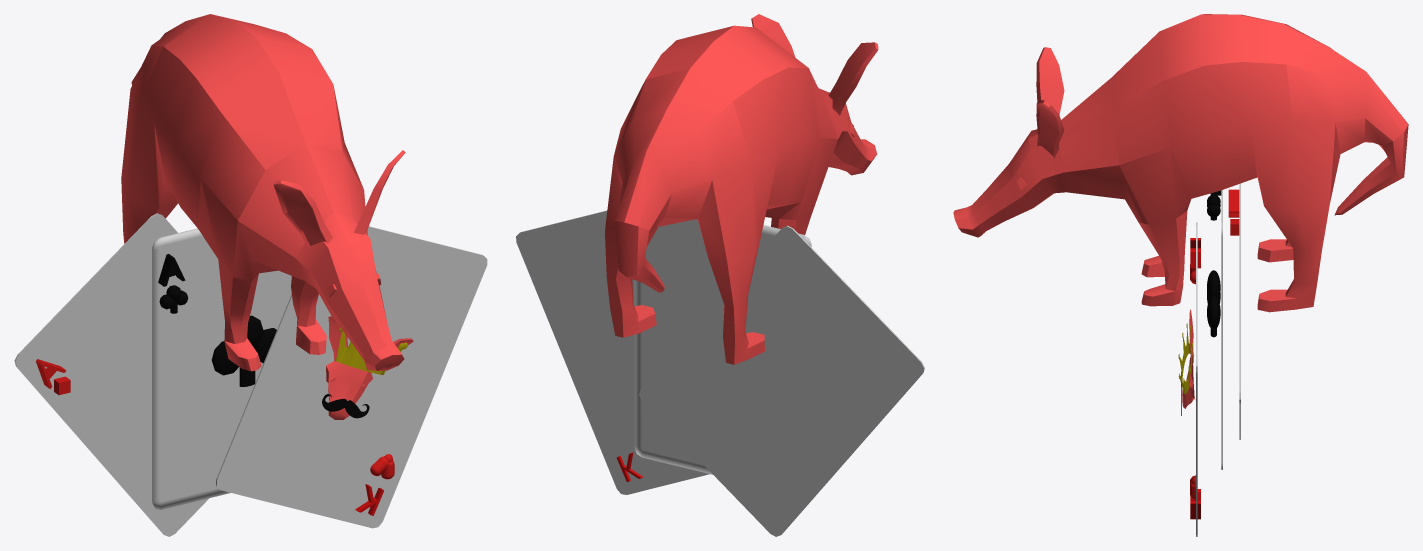
File: caardvark_icon.glb
The picture shows the model from 3 angles, left to right: view 1: azimuth 30°, elevation 25°; view 2: azimuth 150°, elevation 25°; view 3: azimuth 270°, elevation 25°; orthographic projection. The views are drawn at different scales.
Visible parts, largest first — view 1: Group, Aardvark, Aardvark 1, Cylinder001; view 2: Group, Aardvark; view 3: Aardvark, Group.
Boxes of the visible parts, box(x1,y1,x2,y2) form: Group: box(14, 213, 487, 536); Aardvark: box(121, 14, 405, 371); Aardvark 1: box(326, 316, 413, 419); Cylinder001: box(335, 331, 402, 374); Group: box(516, 210, 924, 536); Aardvark: box(605, 14, 878, 364); Aardvark: box(953, 14, 1408, 312); Group: box(1196, 183, 1240, 536).
Size of the model in its own units: 0.1999 by 0.2206 by 0.1938.
